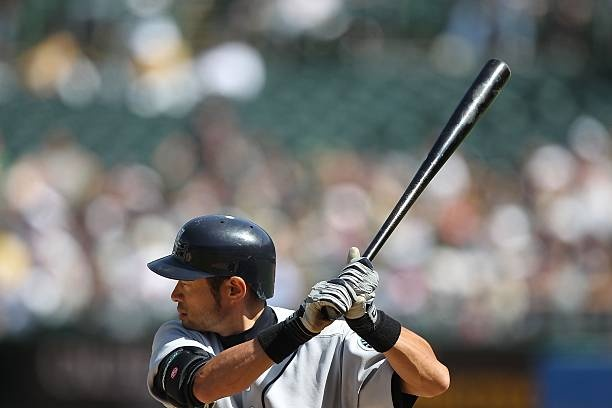bita: (362, 58, 508, 263)
